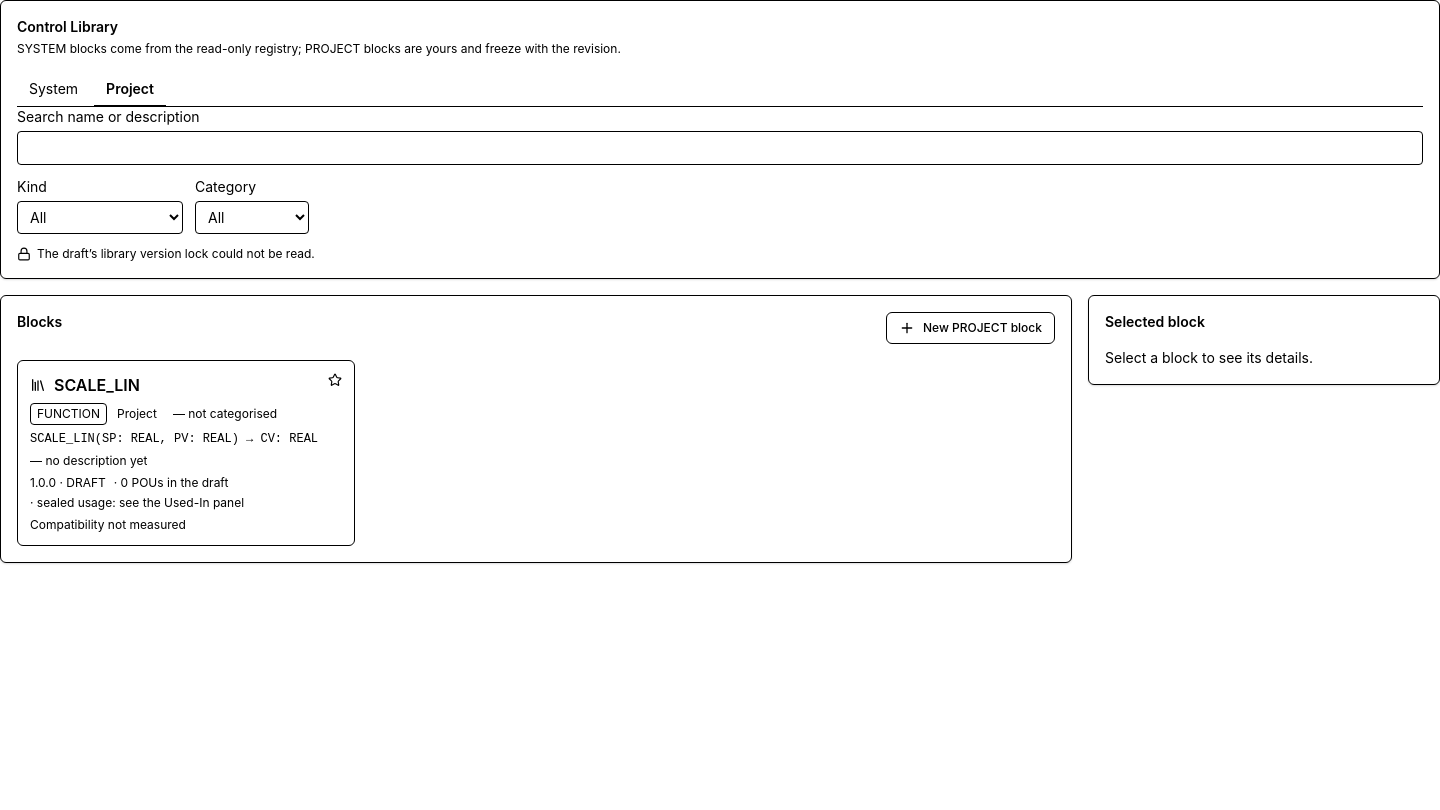
Scenario: PGM-04 wizard soạn thảo 5 bước (T61-401) › ISS-PGUI-02: tên bước theo đúng ngôn ngữ đang chọn
expect the button with test id "library-block-card" is shown: met, box [17,360,355,546]
Click the button "New PROJECT block" at [970, 328], box [886,312,1055,344]
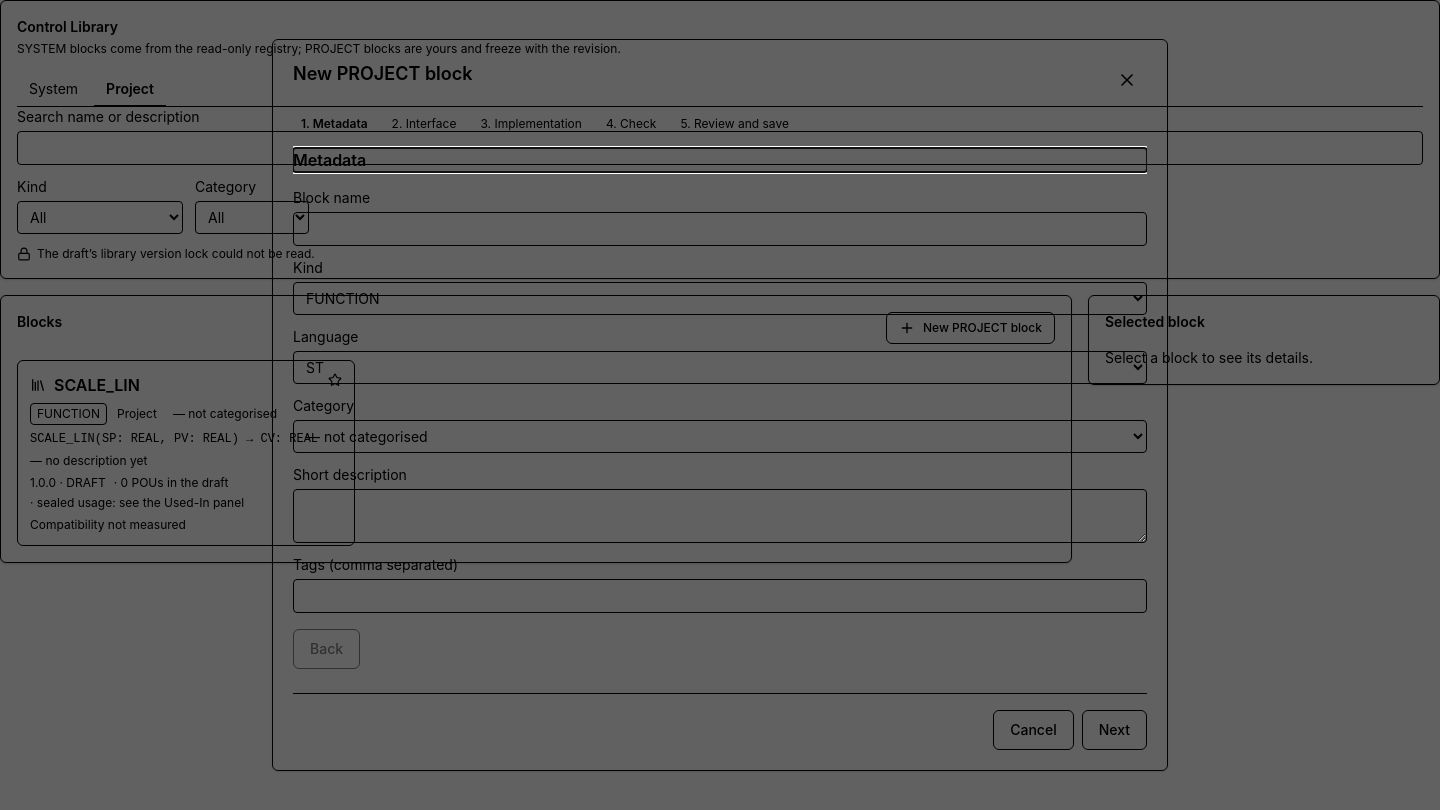
expect the text "1. Metadata" is shown: met, box [301,116,368,131]
expect the text "2. Interface" is shown: met, box [392,116,456,131]
expect the text "3. Implementation" is shown: met, box [472,116,590,135]
